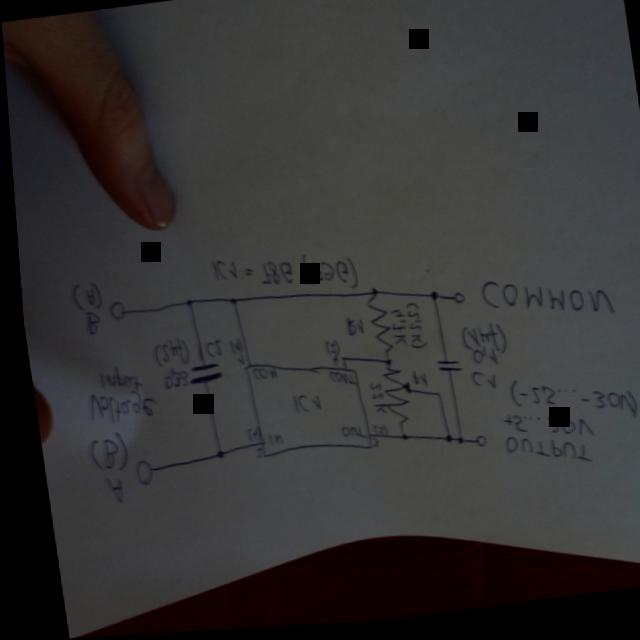capacitor: (181, 363, 218, 387), (427, 364, 455, 381)
junction: (362, 291, 374, 303), (424, 295, 434, 309), (436, 439, 446, 451), (447, 440, 457, 452), (223, 299, 233, 310), (178, 300, 188, 311), (377, 362, 389, 371), (392, 437, 402, 447), (208, 451, 217, 462), (333, 359, 342, 367), (428, 396, 435, 404)
resistor: (374, 369, 409, 432), (359, 300, 388, 361)
terminal: (126, 459, 148, 489), (102, 302, 123, 325), (465, 438, 481, 456), (445, 295, 461, 312)
text: (205, 246, 356, 311), (501, 371, 633, 444), (474, 272, 610, 337), (493, 410, 588, 456), (496, 432, 585, 481), (80, 387, 153, 430), (79, 432, 123, 476), (453, 327, 501, 366), (92, 365, 137, 398), (146, 338, 186, 372), (398, 306, 423, 356), (66, 282, 98, 315), (383, 312, 404, 354), (462, 370, 490, 400), (284, 395, 316, 420), (156, 369, 184, 394), (362, 385, 380, 421), (466, 350, 493, 374), (321, 373, 349, 394), (97, 478, 117, 507), (78, 312, 98, 339), (338, 319, 360, 343), (333, 427, 359, 447), (245, 370, 273, 386), (198, 342, 219, 363), (405, 373, 422, 395), (317, 342, 334, 362), (239, 428, 255, 447), (223, 340, 237, 360), (365, 427, 381, 443), (260, 436, 276, 450), (325, 358, 335, 373), (230, 356, 240, 370), (363, 440, 372, 454), (248, 450, 257, 462)
